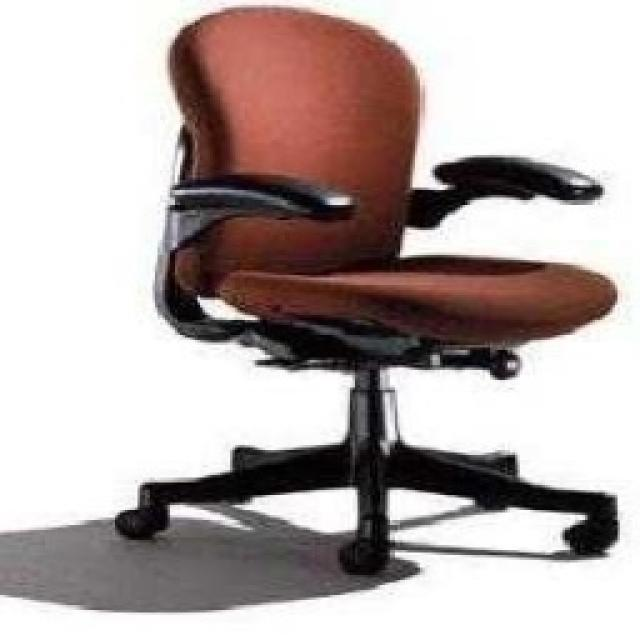sandalye: (112, 2, 620, 576)
